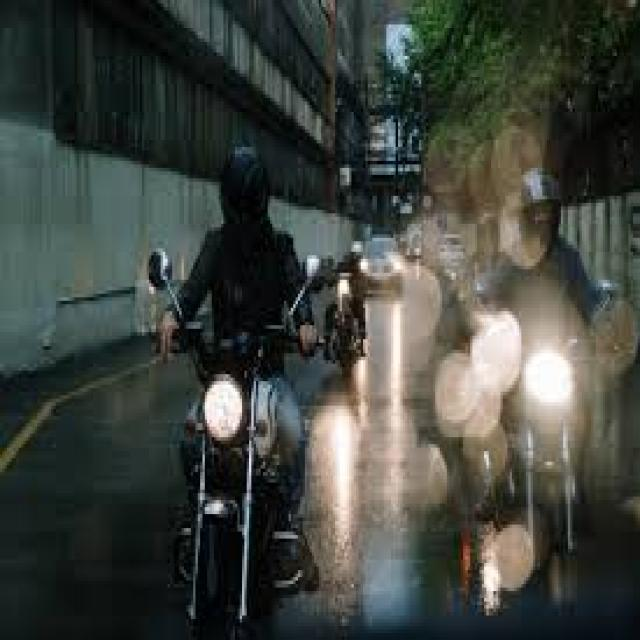MOTORCYCLE: (167, 314, 295, 640), (332, 260, 369, 376)
